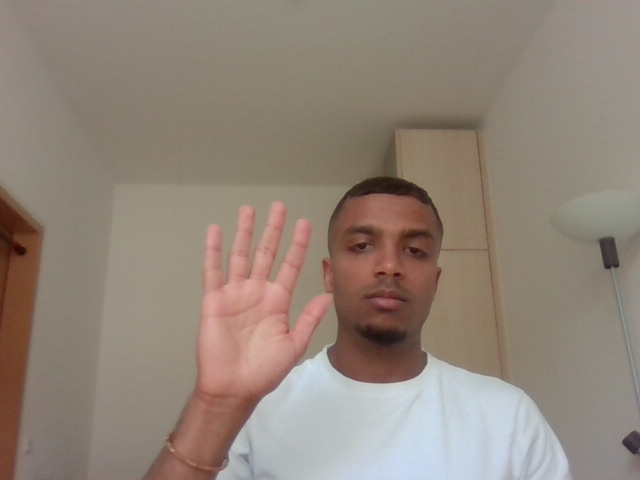never: (186, 187, 338, 406)
